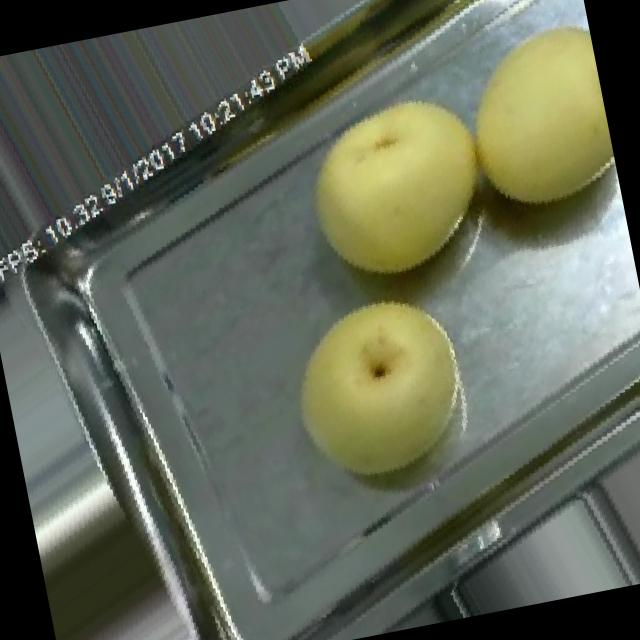Fruit: (247, 254, 516, 520), (267, 58, 526, 320), (423, 0, 625, 246)
